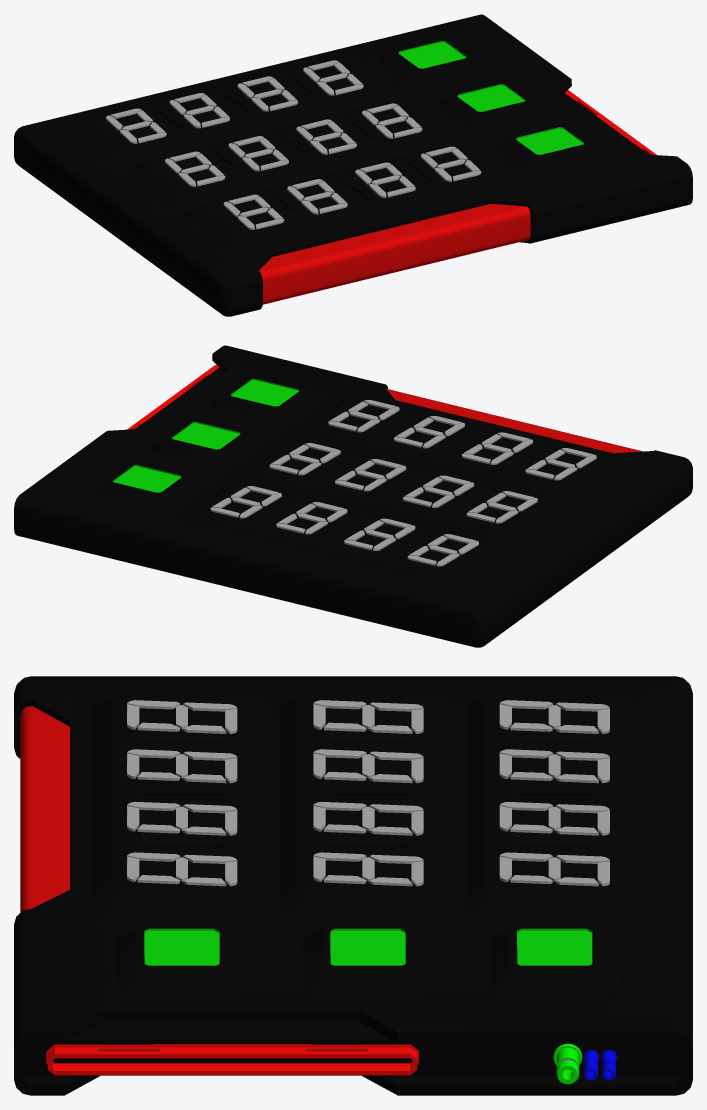
The model's file is ScreenFormal_LoPo_2_LKN.fbx.
3 renders of one model, top to bottom at view 1: azimuth 30°, elevation 25°; view 2: azimuth 150°, elevation 25°; view 3: azimuth 270°, elevation 25°, orthographic. The views are drawn at different scales.
Visible parts, largest first — view 1: ScreenShell, ScreenInner; view 2: ScreenShell, ScreenInner; view 3: ScreenShell, ScreenInner.
Part boxes in pixels (x1,y1,x2,y2): ScreenShell: (14,14,692,316); ScreenInner: (561,90,656,154); ScreenShell: (14,345,692,647); ScreenInner: (127,365,222,429); ScreenShell: (14,676,692,1095); ScreenInner: (25,1022,681,1084).
Size of the model in its own units: 77.82 by 7.98 by 59.95.
